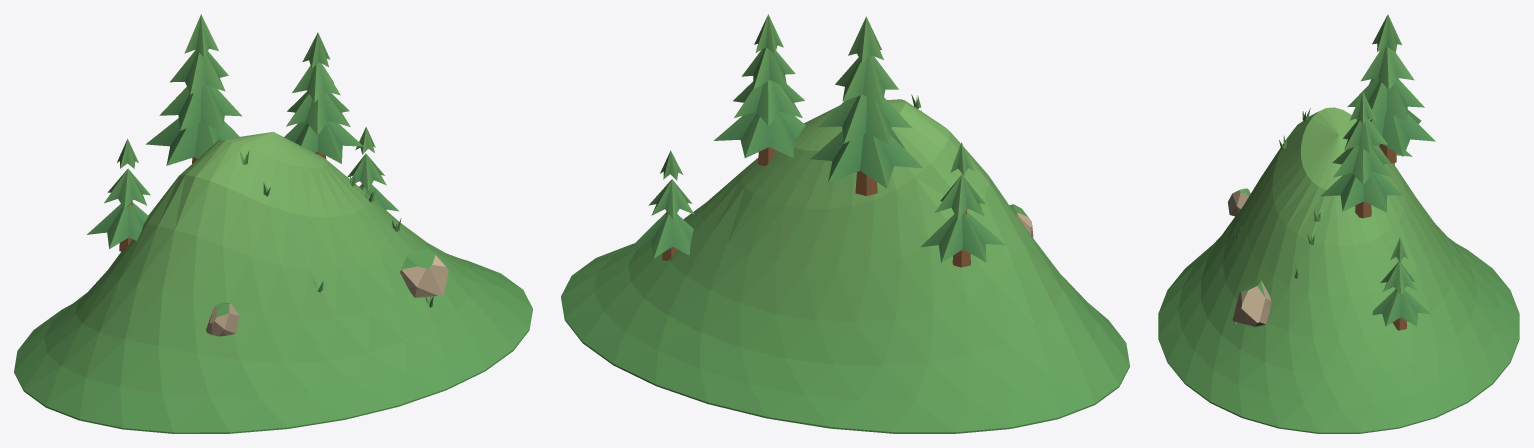
File: ranch_border_hill_dome.fbx
The picture shows the model from 3 angles, left to right: view 1: azimuth 30°, elevation 25°; view 2: azimuth 150°, elevation 25°; view 3: azimuth 270°, elevation 25°; orthographic projection. The views are drawn at different scales.
Parts seen in each view (by area): view 1: ranch_border_hill_dome; view 2: ranch_border_hill_dome; view 3: ranch_border_hill_dome.
Part boxes in pixels (bbox=[...]): ranch_border_hill_dome: bbox=[14, 14, 532, 433]; ranch_border_hill_dome: bbox=[561, 14, 1129, 433]; ranch_border_hill_dome: bbox=[1158, 14, 1519, 433].
Size of the model in its own units: 41.74 by 26.64 by 29.81.
